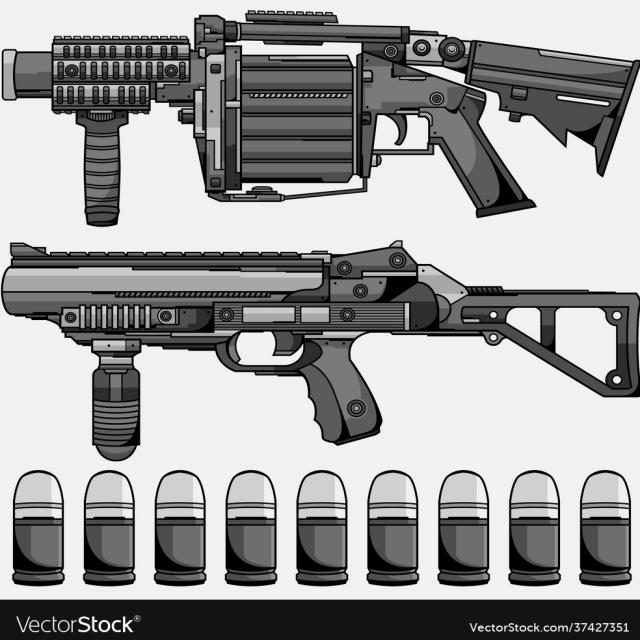Weapon: (1, 242, 640, 459), (3, 10, 639, 223)
